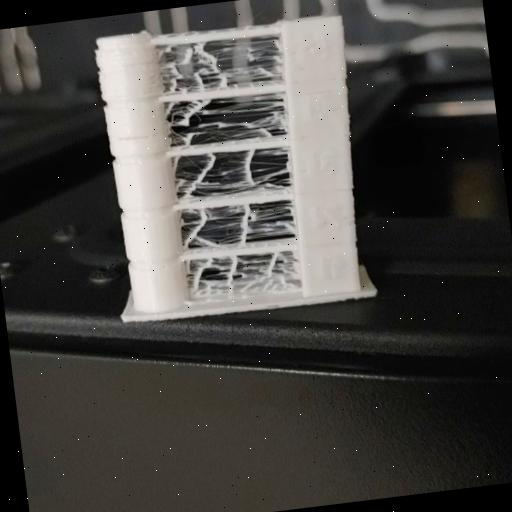stringing: (166, 36, 286, 89), (169, 94, 282, 144), (178, 148, 290, 196), (186, 254, 294, 302), (184, 205, 296, 246)
